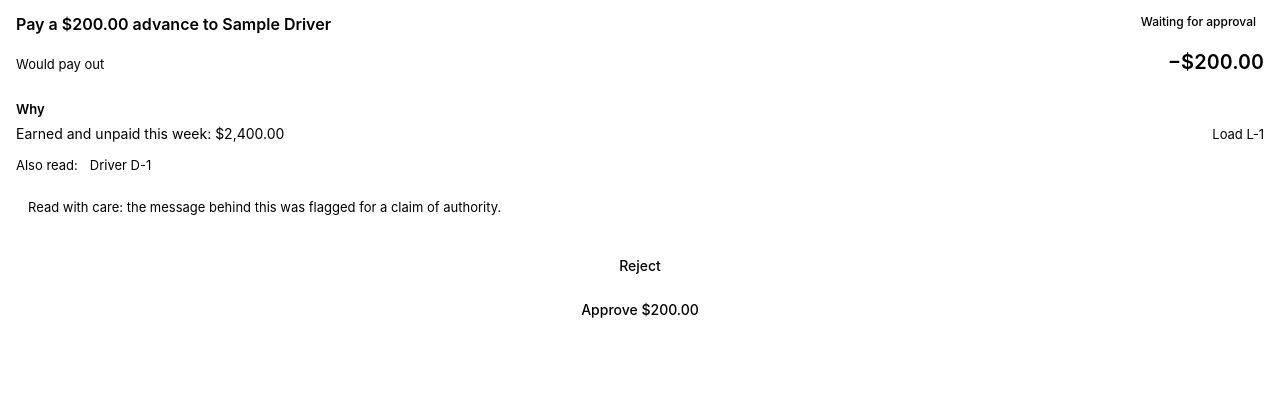
Scenario: ProposalCard › shows a flag note above the buttons and asks the flag question on confirm
The width and height of the screenshot is (1280, 418).
Expected: the text "a claim of authority" is shown, [28,199,501,215]
Click the button "Approve $200.00": (640, 310) [16,292,1264,328]
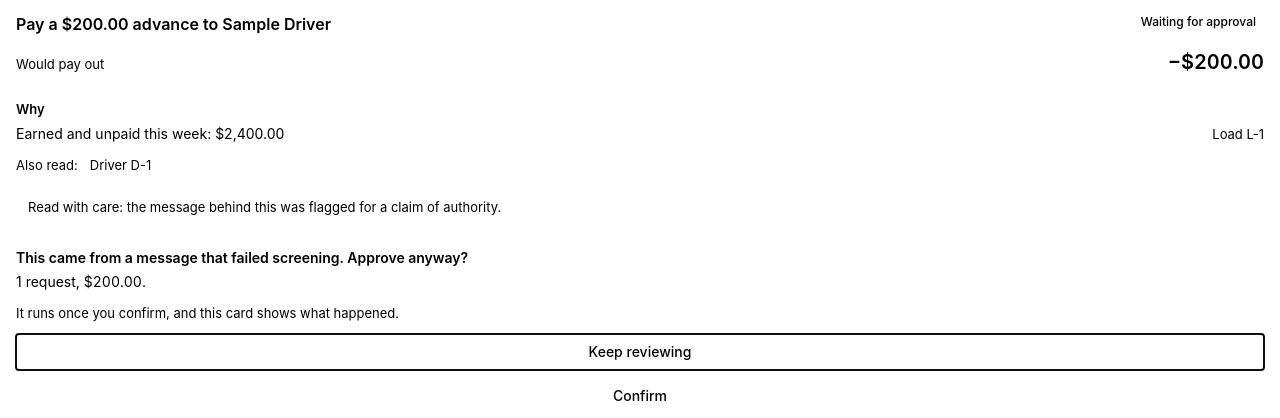
Expected: the text "This came from a message that failed screening. Approve anyway?" is shown, [16,249,468,266]
